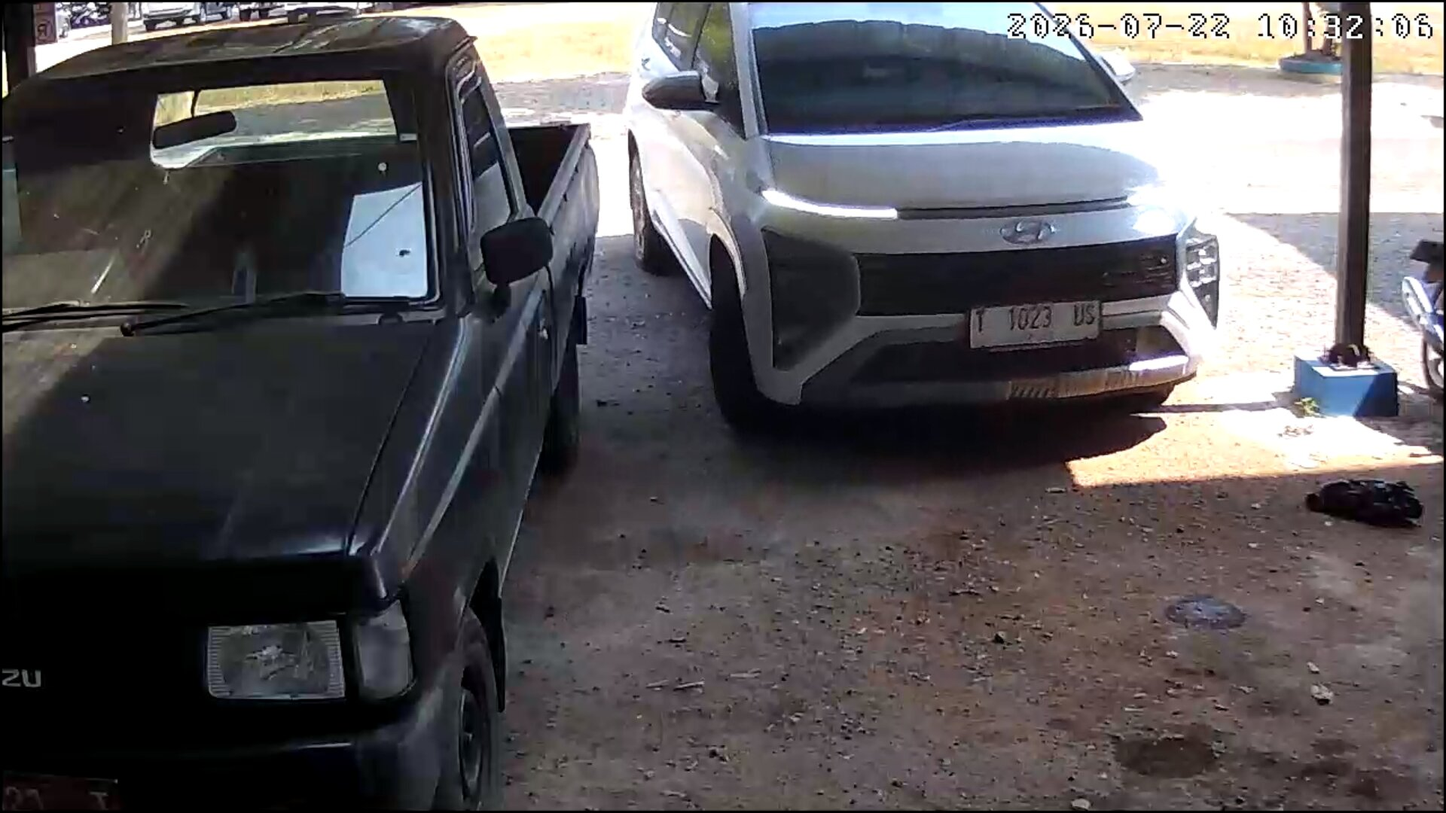plat nomor: (968, 299, 1100, 352)
